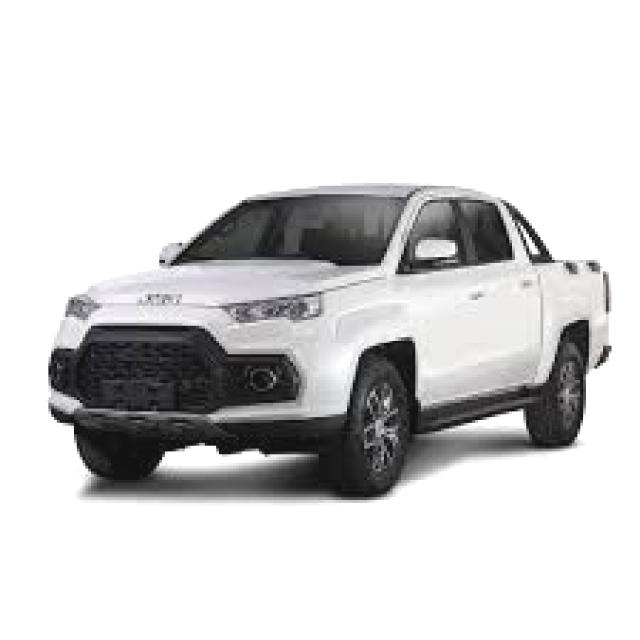CMT: (46, 186, 614, 498)
